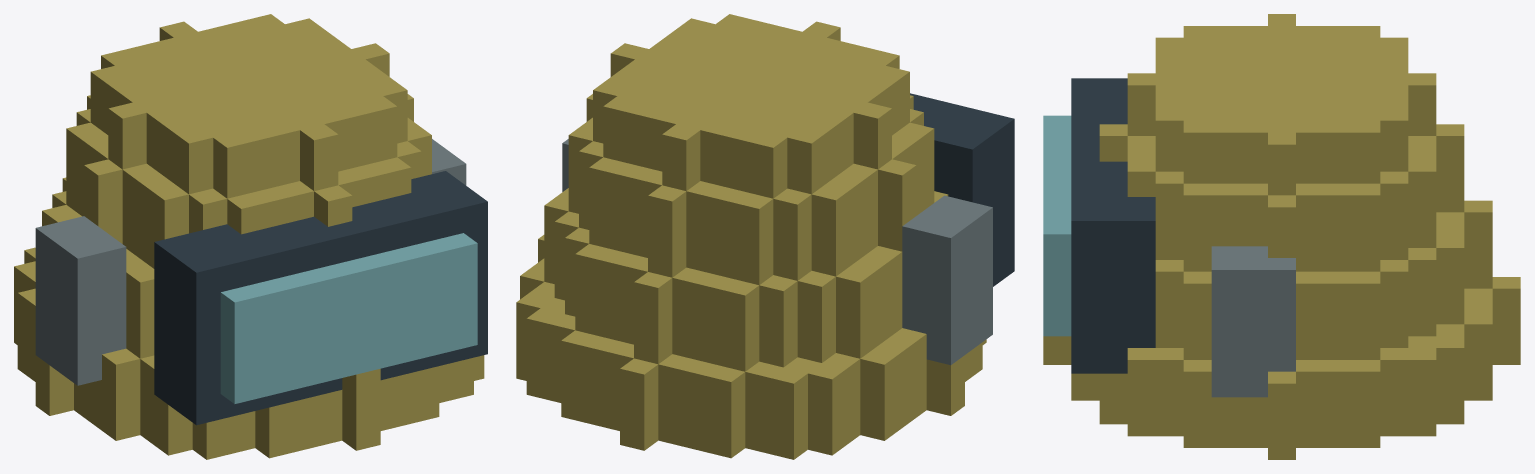
The model's file is energy-15.glb.
3 views of the same model, side by side, from view 1: azimuth 30°, elevation 25°; view 2: azimuth 150°, elevation 25°; view 3: azimuth 270°, elevation 25° (orthographic).
Parts seen in each view (by area): view 1: Safety helmet; view 2: Safety helmet; view 3: Safety helmet.
Boxes of the visible parts, x1,y1,x2,y2 form: Safety helmet: [14, 14, 487, 459]; Safety helmet: [516, 14, 1014, 459]; Safety helmet: [1043, 14, 1520, 459].
Size of the model in its own units: 1.36 by 0.88 by 1.36.
